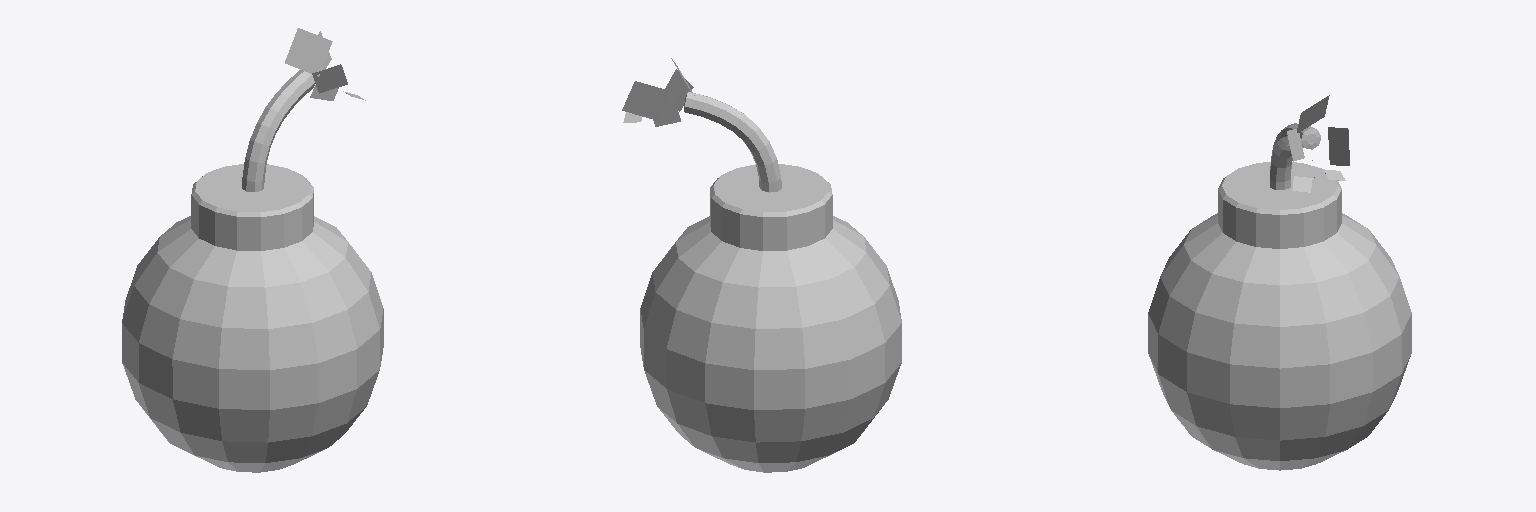
File: bomb_000017.obj
3 views of the same model, side by side, from view 1: azimuth 30°, elevation 25°; view 2: azimuth 150°, elevation 25°; view 3: azimuth 270°, elevation 25° (orthographic).
Parts seen in each view (by area): view 1: Sphere, NurbsPath, Plane_5.001_Mesh.001; view 2: Sphere, NurbsPath, Plane_5.001_Mesh.001; view 3: Sphere, Plane_5.001_Mesh.001, NurbsPath.
Part boxes in pixels (left/top/right/bottom): Sphere: left=122, top=164, right=383, bottom=472; NurbsPath: left=242, top=70, right=315, bottom=191; Plane_5.001_Mesh.001: left=285, top=28, right=365, bottom=100; Sphere: left=640, top=164, right=901, bottom=472; NurbsPath: left=684, top=92, right=781, bottom=192; Plane_5.001_Mesh.001: left=622, top=58, right=694, bottom=126; Sphere: left=1148, top=162, right=1411, bottom=470; Plane_5.001_Mesh.001: left=1287, top=95, right=1349, bottom=192; NurbsPath: left=1270, top=123, right=1320, bottom=189.
Bounding box in the file's own units: 0.9168 × 1.45 × 0.8919.